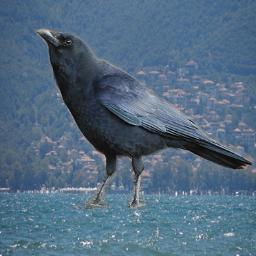Crow: (33, 28, 252, 213)
